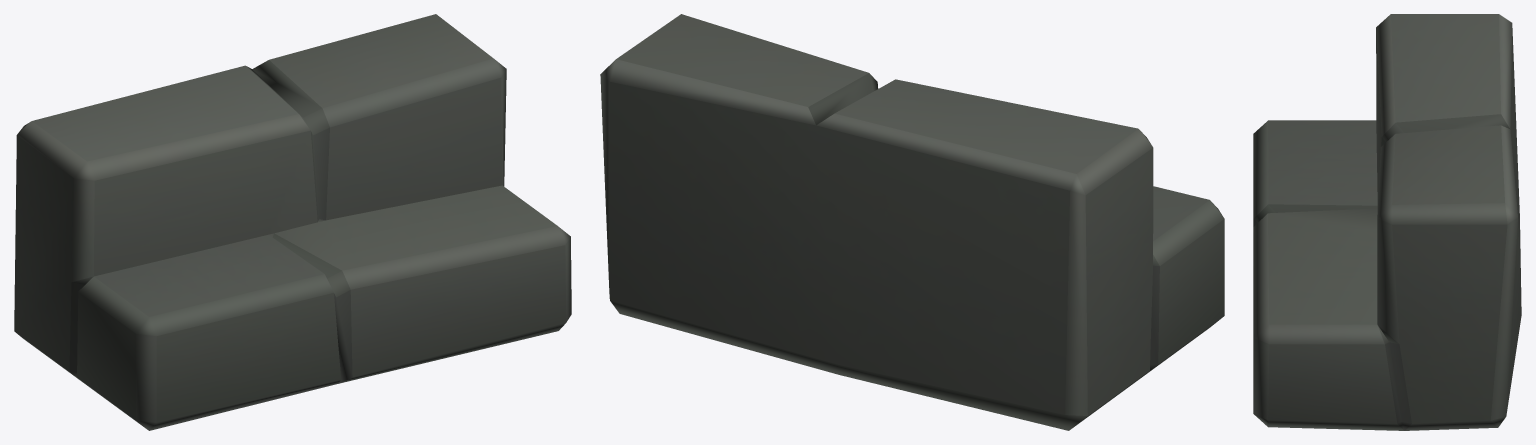
File: stairs_half_1_shade_4.fbx
3 renders of one model, left to right at view 1: azimuth 30°, elevation 25°; view 2: azimuth 150°, elevation 25°; view 3: azimuth 270°, elevation 25°, orthographic. The views are drawn at different scales.
Parts seen in each view (by area): view 1: stairs_half_1_shade_4; view 2: stairs_half_1_shade_4; view 3: stairs_half_1_shade_4.
Part boxes in pixels (<box>): stairs_half_1_shade_4: <box>14,14,571,430</box>; stairs_half_1_shade_4: <box>600,14,1224,430</box>; stairs_half_1_shade_4: <box>1253,14,1521,430</box>.
Bounding box in the file's own units: 100 × 50.87 × 54.57.
